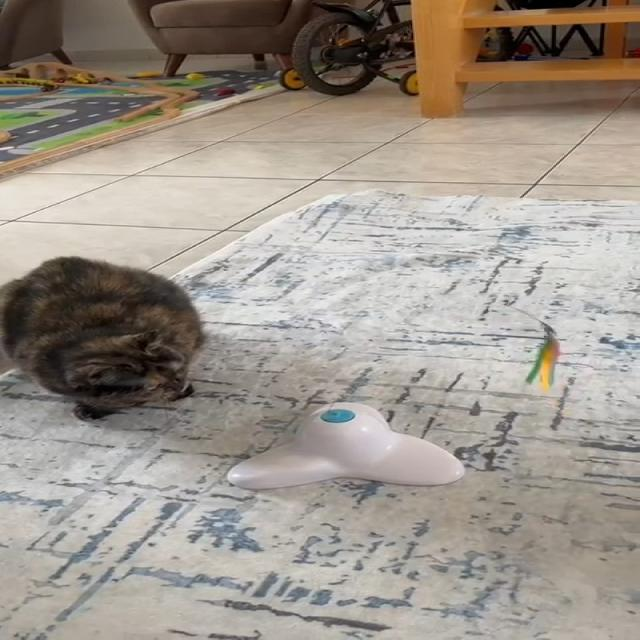authorized: (0, 254, 205, 421)
